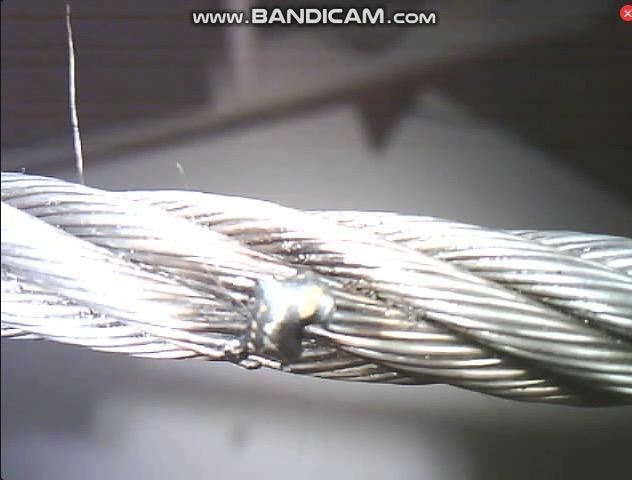thunderbolt: (232, 276, 351, 362)
